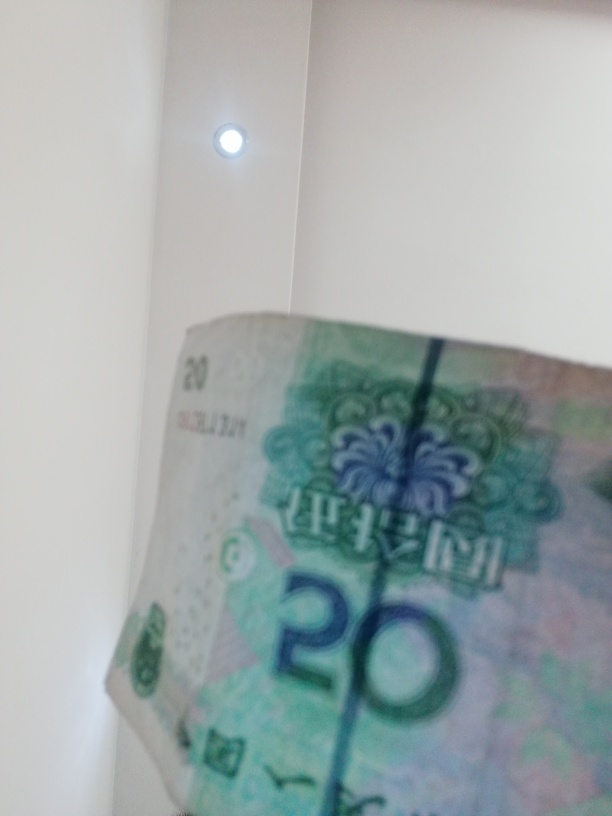rmb: (122, 311, 612, 806)
